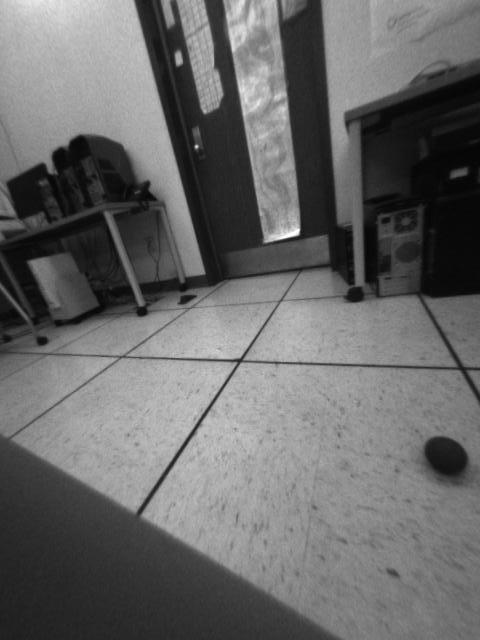dogtoy: (421, 429, 472, 482)
